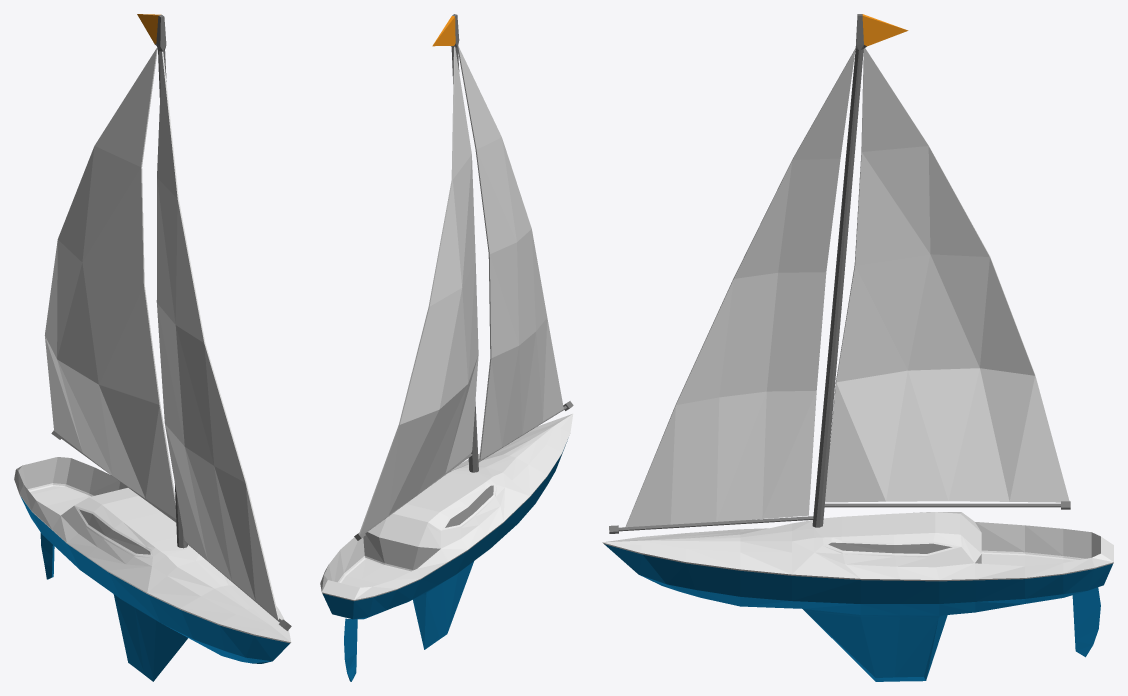
Rendered from 1368Sailboat.gltf.
3 views of the same model, side by side, from view 1: azimuth 30°, elevation 25°; view 2: azimuth 150°, elevation 25°; view 3: azimuth 270°, elevation 25° (orthographic). The views are drawn at different scales.
Parts seen in each view (by area): view 1: node-0; view 2: node-0; view 3: node-0.
Part boxes in pixels (x1,y1,x2,y2): node-0: [14, 14, 291, 681]; node-0: [320, 14, 573, 681]; node-0: [602, 14, 1113, 681].
Size of the model in its own units: 7.78 by 45.72 by 31.8.
Materials: 1 (1 with a texture image).
